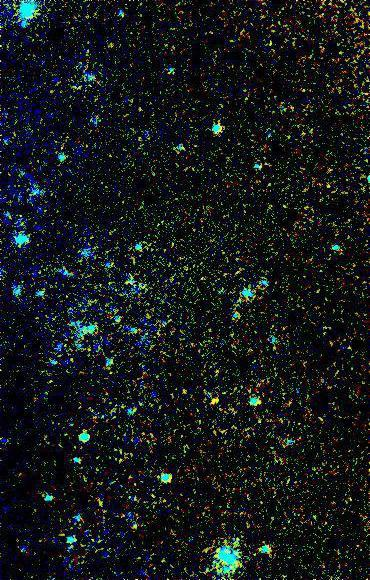star: (202, 384, 232, 414)
